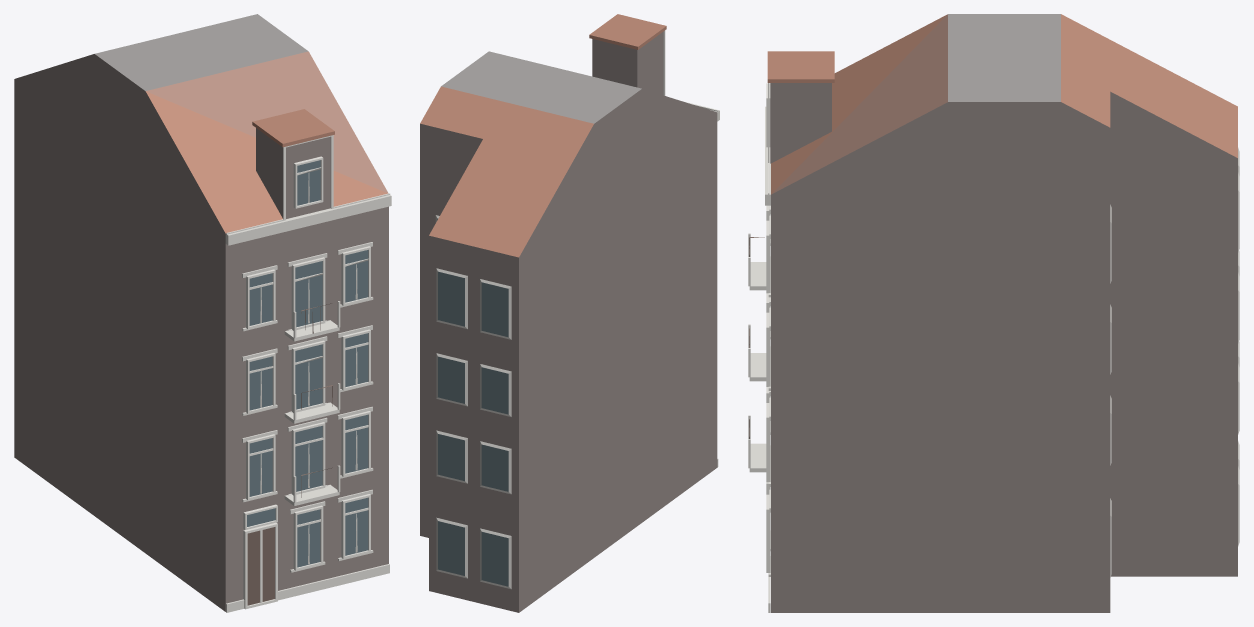
Rendered from chunk-face-retief-45-75-r3.lod2.glb.
3 renders of one model, left to right at view 1: azimuth 30°, elevation 25°; view 2: azimuth 150°, elevation 25°; view 3: azimuth 270°, elevation 25°, orthographic. The views are drawn at different scales.
Parts seen in each view (by area): view 1: lod2; view 2: lod2; view 3: lod2.
Part boxes in pixels (box(x1,y1,x2,y2)): lod2: box(14, 14, 391, 612); lod2: box(420, 14, 719, 612); lod2: box(748, 14, 1239, 612).
Bounding box in the file's own units: 5.95 × 16.1 × 14.03.
